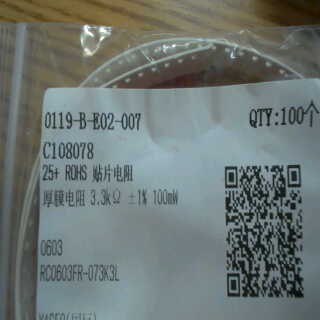3.3kO: (86, 184, 122, 210)
